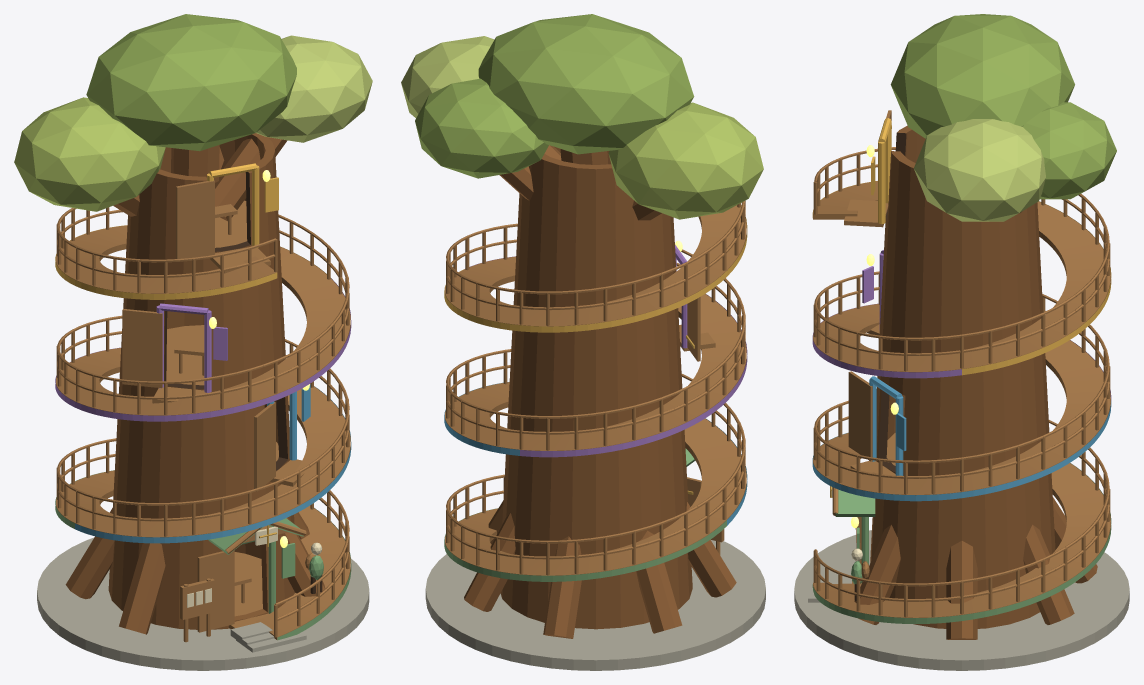
The model's file is MANABI_Shibuya_3F.glb.
3 views of the same model, side by side, from view 1: azimuth 30°, elevation 25°; view 2: azimuth 150°, elevation 25°; view 3: azimuth 270°, elevation 25° (orthographic). The views are drawn at different scales.
Visible parts, largest first — view 1: Hollow trunk with accessible floors, Single continuous ramp - ground to summit, Low polygon canopy 0, Spiral railings - consolidated repeated modules, Circular stone plinth, Low polygon canopy 1, Low polygon canopy 2, Level color ribbon, Exploration open door, Mastery open door, Root 04, Reception open door (+14 smaller); view 2: Hollow trunk with accessible floors, Single continuous ramp - ground to summit, Low polygon canopy 0, Circular stone plinth, Spiral railings - consolidated repeated modules, Low polygon canopy 1, Low polygon canopy 3, Level color ribbon, Low polygon canopy 2, Root 03, Root 02, Root 01 (+4 smaller); view 3: Hollow trunk with accessible floors, Single continuous ramp - ground to summit, Spiral railings - consolidated repeated modules, Low polygon canopy 0, Circular stone plinth, Low polygon canopy 2, Level color ribbon, Low polygon canopy 3, Root 00, Discovery open door, Root 06, Root 01 (+4 smaller).
Boxes of the visible parts, x1=… form: Hollow trunk with accessible floors: x1=108, y1=133, x2=294, y2=629; Single continuous ramp - ground to summit: x1=56, y1=225, x2=350, y2=639; Low polygon canopy 0: x1=86, y1=14, x2=296, y2=151; Spiral railings - consolidated repeated modules: x1=56, y1=207, x2=349, y2=637; Circular stone plinth: x1=37, y1=537, x2=369, y2=670; Low polygon canopy 1: x1=14, y1=97, x2=165, y2=211; Low polygon canopy 2: x1=256, y1=35, x2=372, y2=142; Level color ribbon: x1=55, y1=225, x2=351, y2=640; Exploration open door: x1=122, y1=309, x2=162, y2=388; Mastery open door: x1=176, y1=180, x2=214, y2=258; Root 04: x1=119, y1=543, x2=165, y2=634; Reception open door: x1=197, y1=550, x2=234, y2=632; Hollow trunk with accessible floors: x1=500, y1=146, x2=692, y2=629; Single continuous ramp - ground to summit: x1=445, y1=205, x2=746, y2=575; Low polygon canopy 0: x1=478, y1=14, x2=694, y2=154; Circular stone plinth: x1=425, y1=540, x2=765, y2=670; Spiral railings - consolidated repeated modules: x1=446, y1=200, x2=745, y2=575; Low polygon canopy 1: x1=608, y1=102, x2=763, y2=219; Low polygon canopy 3: x1=415, y1=78, x2=548, y2=178; Level color ribbon: x1=444, y1=205, x2=747, y2=581; Low polygon canopy 2: x1=401, y1=36, x2=494, y2=117; Root 03: x1=636, y1=530, x2=682, y2=633; Root 02: x1=543, y1=536, x2=581, y2=638; Root 01: x1=464, y1=513, x2=515, y2=611; Hollow trunk with accessible floors: x1=870, y1=125, x2=1055, y2=628; Single continuous ramp - ground to summit: x1=813, y1=181, x2=1110, y2=617; Spiral railings - consolidated repeated modules: x1=813, y1=147, x2=1110, y2=617; Low polygon canopy 0: x1=890, y1=14, x2=1074, y2=138; Circular stone plinth: x1=794, y1=530, x2=1129, y2=670; Low polygon canopy 2: x1=914, y1=119, x2=1045, y2=221; Level color ribbon: x1=812, y1=181, x2=1111, y2=623; Low polygon canopy 3: x1=1022, y1=102, x2=1116, y2=199; Root 00: x1=946, y1=541, x2=977, y2=639; Discovery open door: x1=848, y1=371, x2=872, y2=461; Root 06: x1=854, y1=524, x2=900, y2=624; Root 01: x1=1023, y1=524, x2=1074, y2=624.
Size of the model in its own units: 9.31 by 15.06 by 8.
